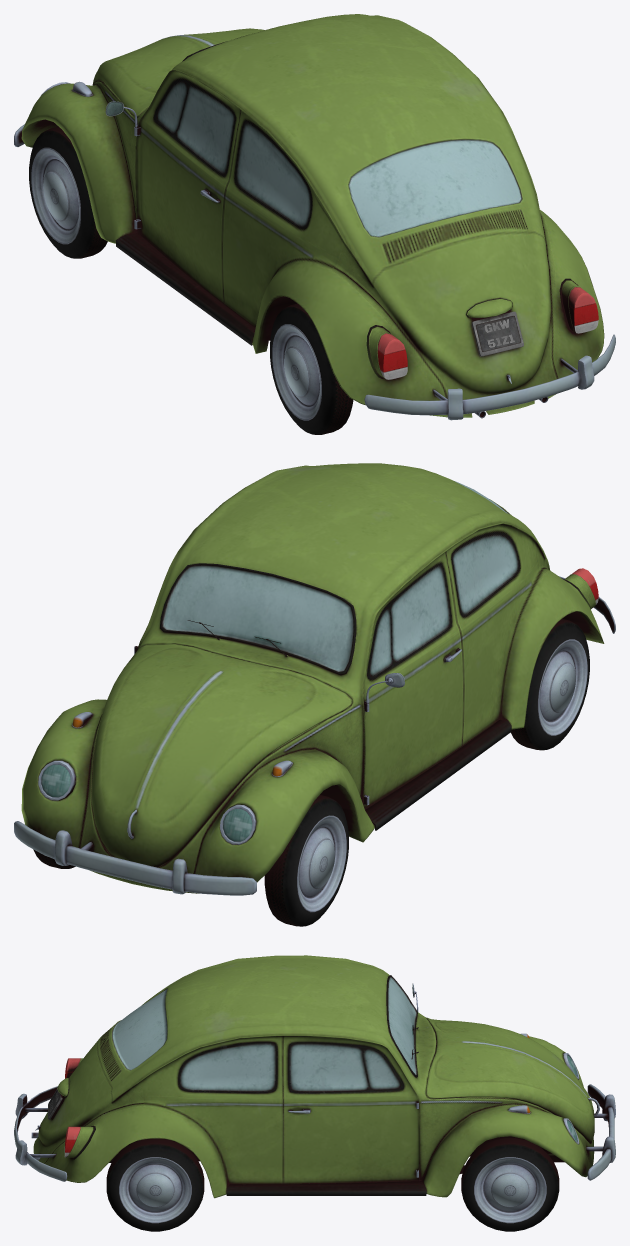
File: vw_beetle.glb
3 views of the same model, one above another, from view 1: azimuth 30°, elevation 25°; view 2: azimuth 150°, elevation 25°; view 3: azimuth 270°, elevation 25° (orthographic). The views are drawn at different scales.
Visible parts, largest first — view 1: VW_BEETLE_GARBUS_0, R_WHEELS_GARBUS_0, FR_WHEEL_GARBUS_0; view 2: VW_BEETLE_GARBUS_0, FR_WHEEL_GARBUS_0, R_WHEELS_GARBUS_0; view 3: VW_BEETLE_GARBUS_0, FR_WHEEL_GARBUS_0, R_WHEELS_GARBUS_0.
Boxes of the visible parts, x1,y1,x2,y2 form: VW_BEETLE_GARBUS_0: (14,14,615,420); R_WHEELS_GARBUS_0: (270,303,353,434); FR_WHEEL_GARBUS_0: (29,126,107,258); VW_BEETLE_GARBUS_0: (14,463,615,895); FR_WHEEL_GARBUS_0: (264,795,348,926); R_WHEELS_GARBUS_0: (511,619,589,750); VW_BEETLE_GARBUS_0: (14,955,615,1198); FR_WHEEL_GARBUS_0: (461,1138,559,1231); R_WHEELS_GARBUS_0: (106,1138,204,1231).
Bounding box in the file's own units: 0.2926 × 0.2748 × 0.7276.
Materials: 1 (1 with a texture image).
